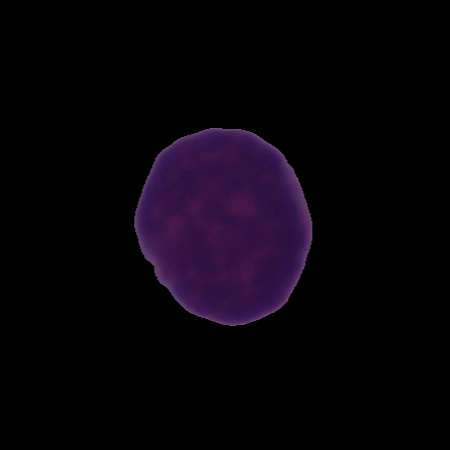ALL: (131, 124, 316, 329)
